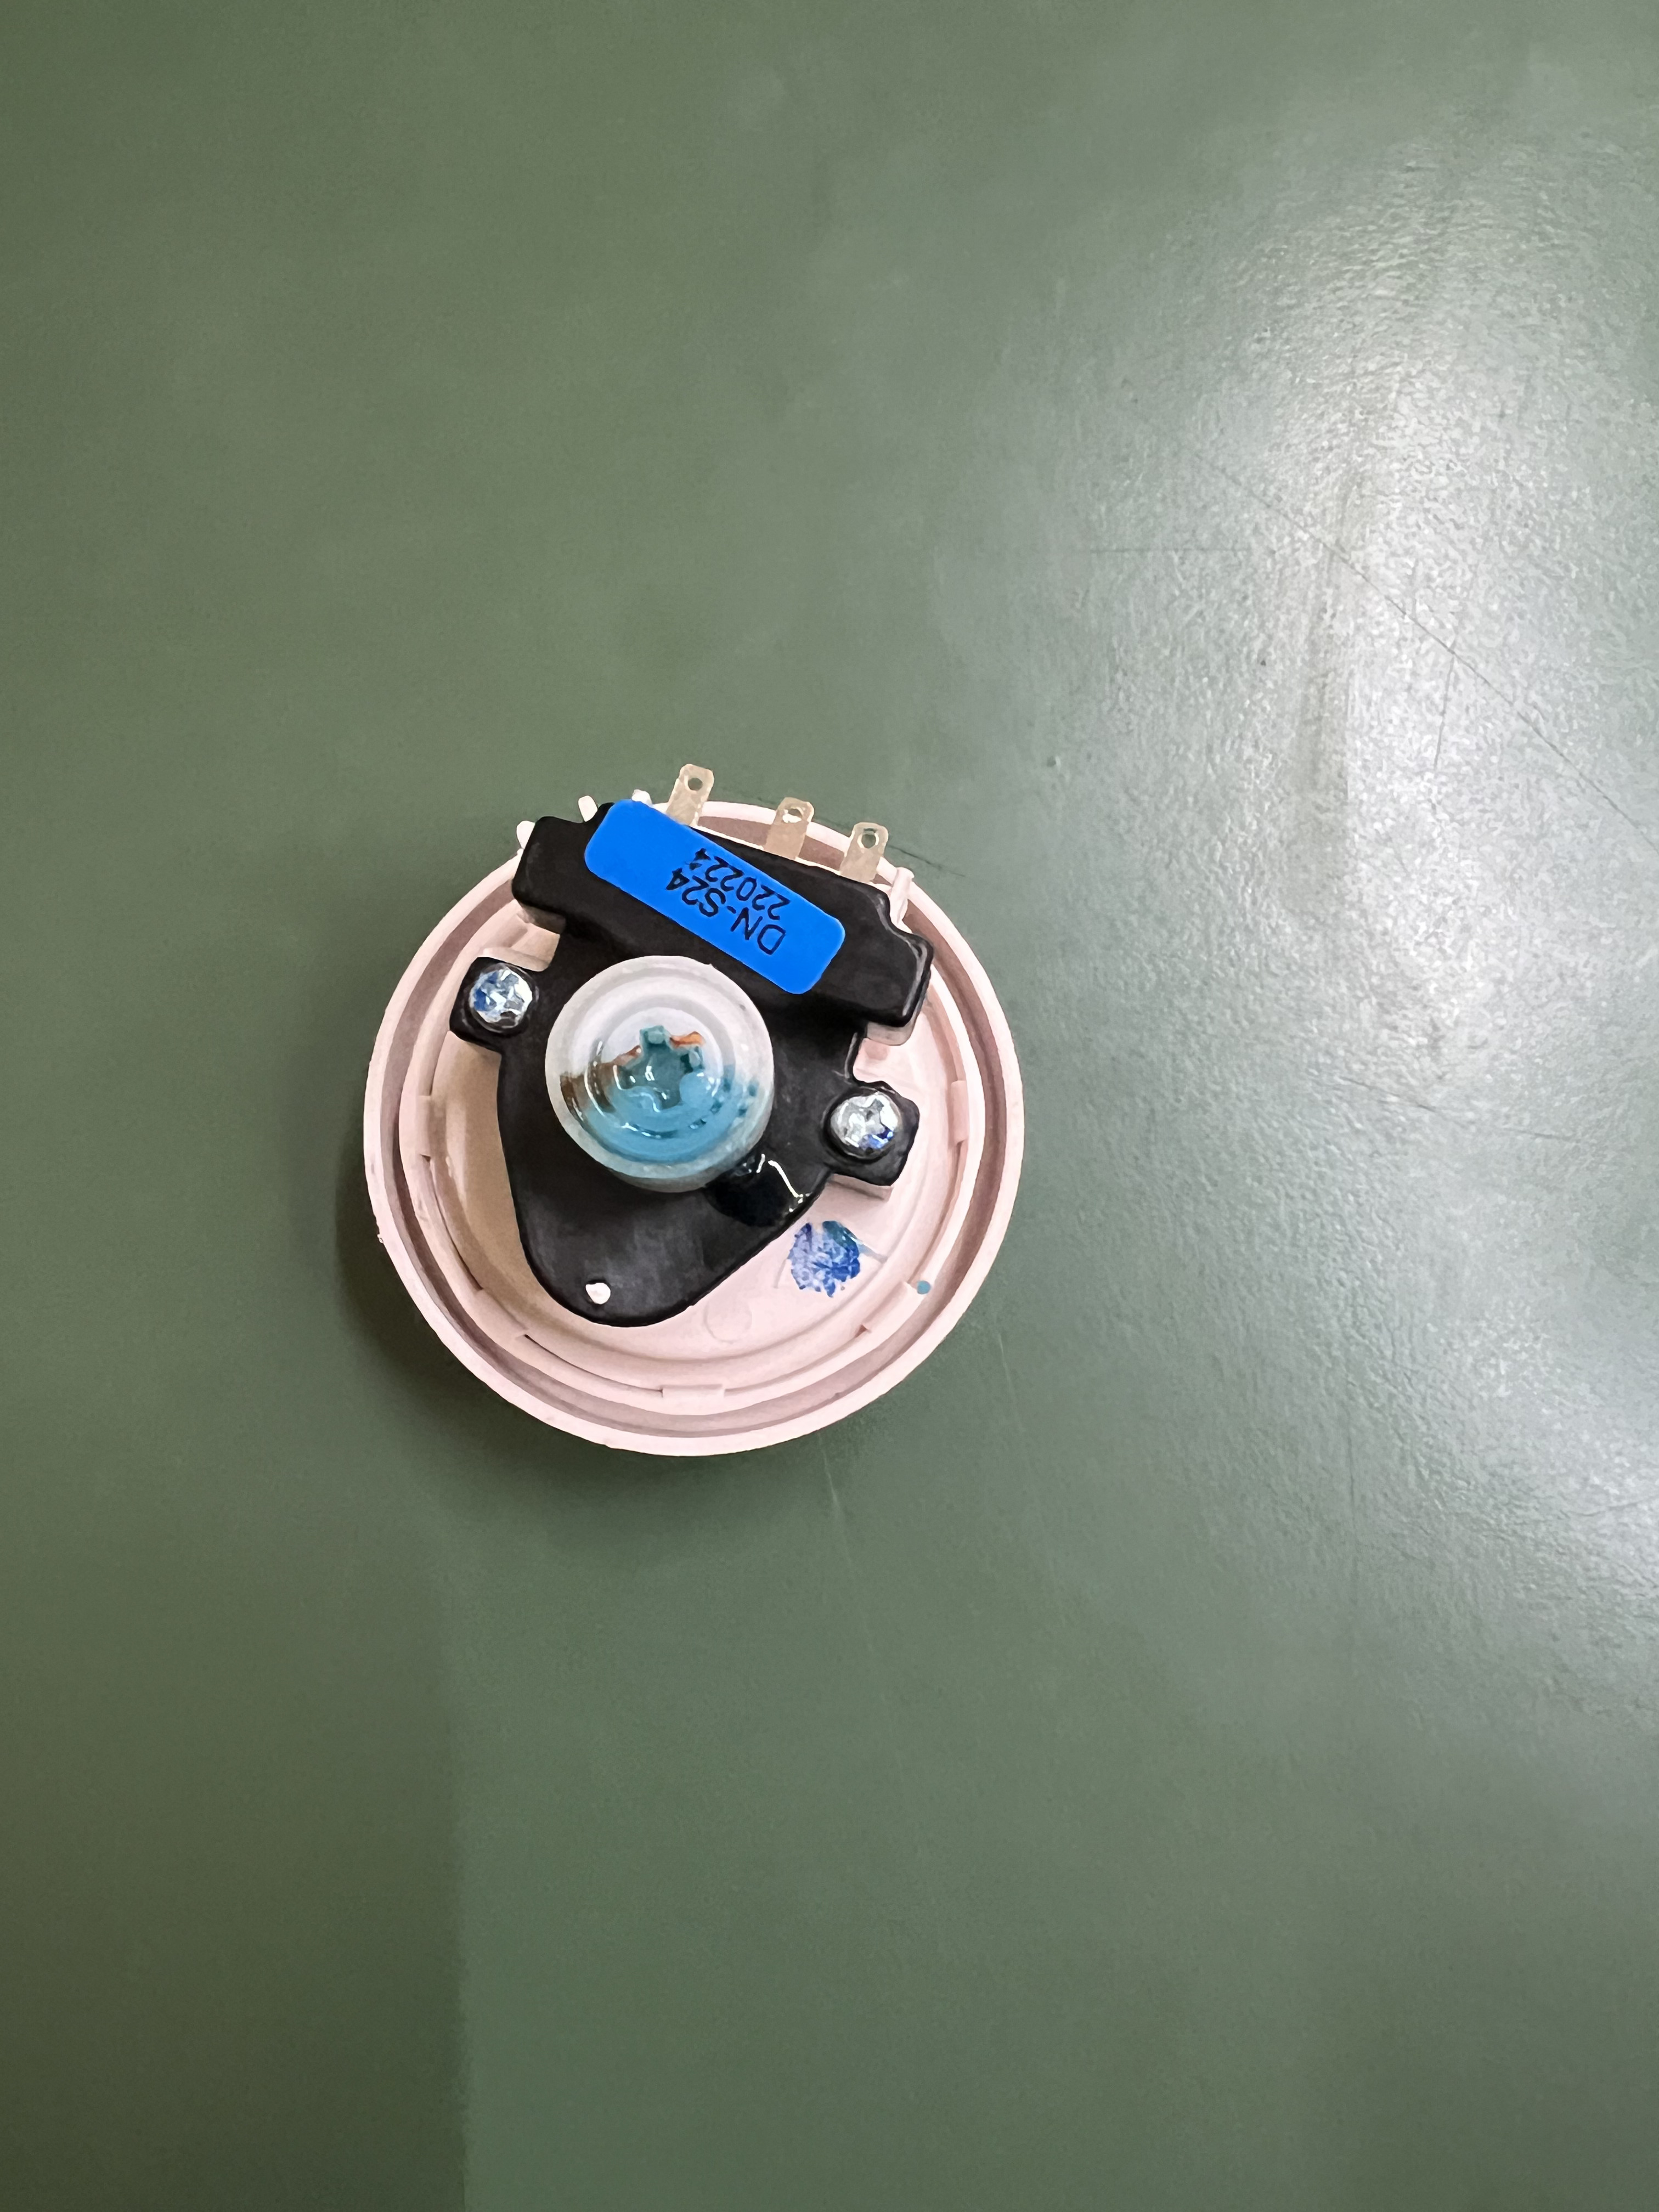pressure_sensor: (349, 765, 1044, 1496)
